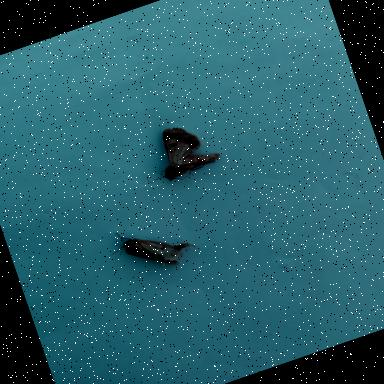abw: (101, 206, 203, 287), (130, 112, 227, 194)
